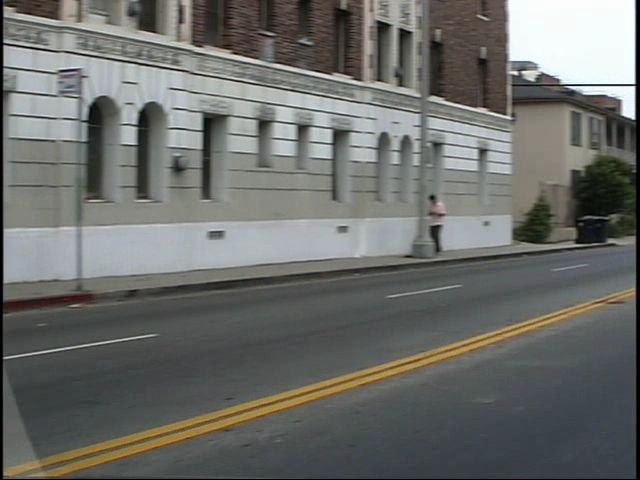person: (445, 188, 468, 256)
